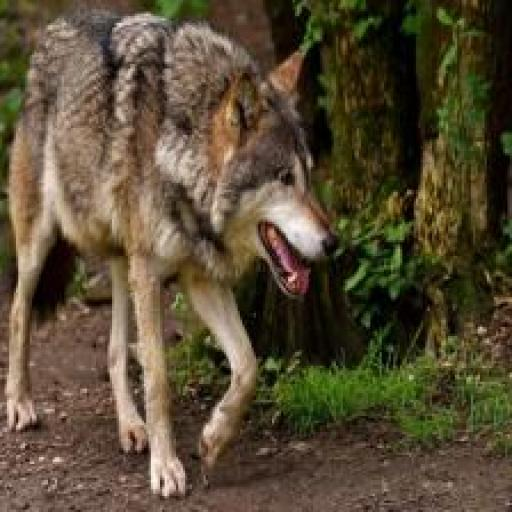wolf: (0, 2, 357, 512)
